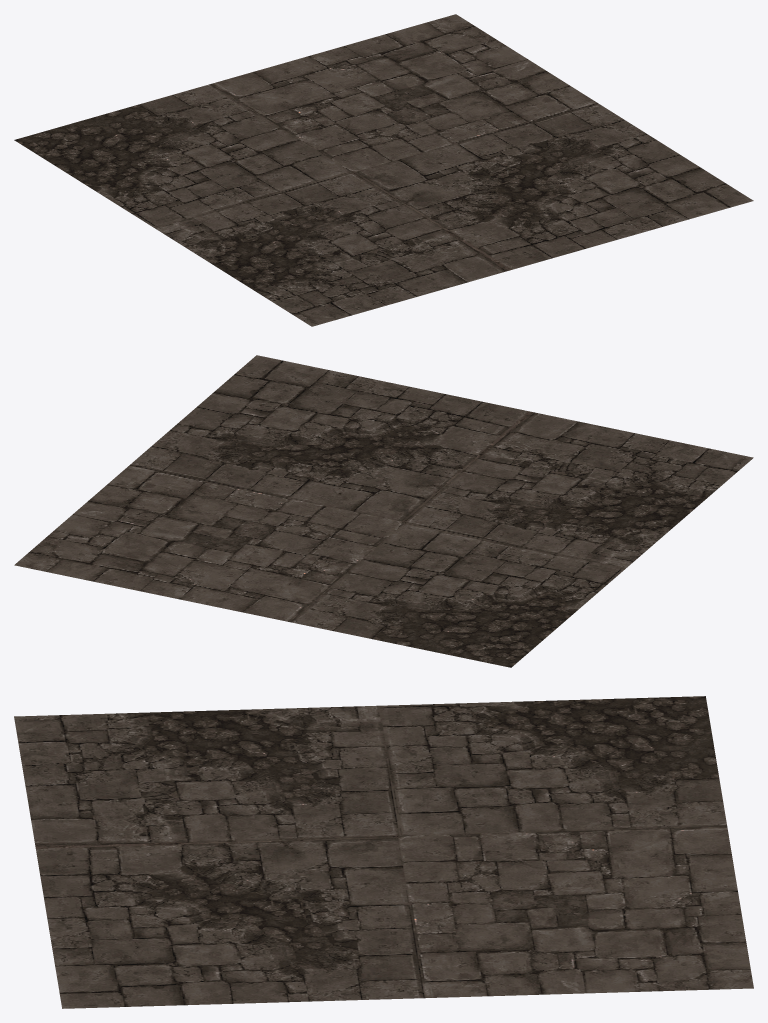
Rendered from Login_plane_01.FBX.
3 renders of one model, top to bottom at view 1: azimuth 30°, elevation 25°; view 2: azimuth 150°, elevation 25°; view 3: azimuth 270°, elevation 25°, orthographic. The views are drawn at different scales.
Visible parts, largest first — view 1: Login_plane_01; view 2: Login_plane_01; view 3: Login_plane_01.
Part boxes in pixels (left/top/right/bottom): Login_plane_01: left=14, top=14, right=753, bottom=326; Login_plane_01: left=14, top=355, right=753, bottom=667; Login_plane_01: left=14, top=696, right=753, bottom=1008.
Size of the model in its own units: 534 by 0.000202 by 534.
1 material, 1 textured.
